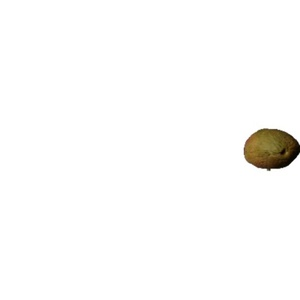mamão: (241, 122, 299, 173)
